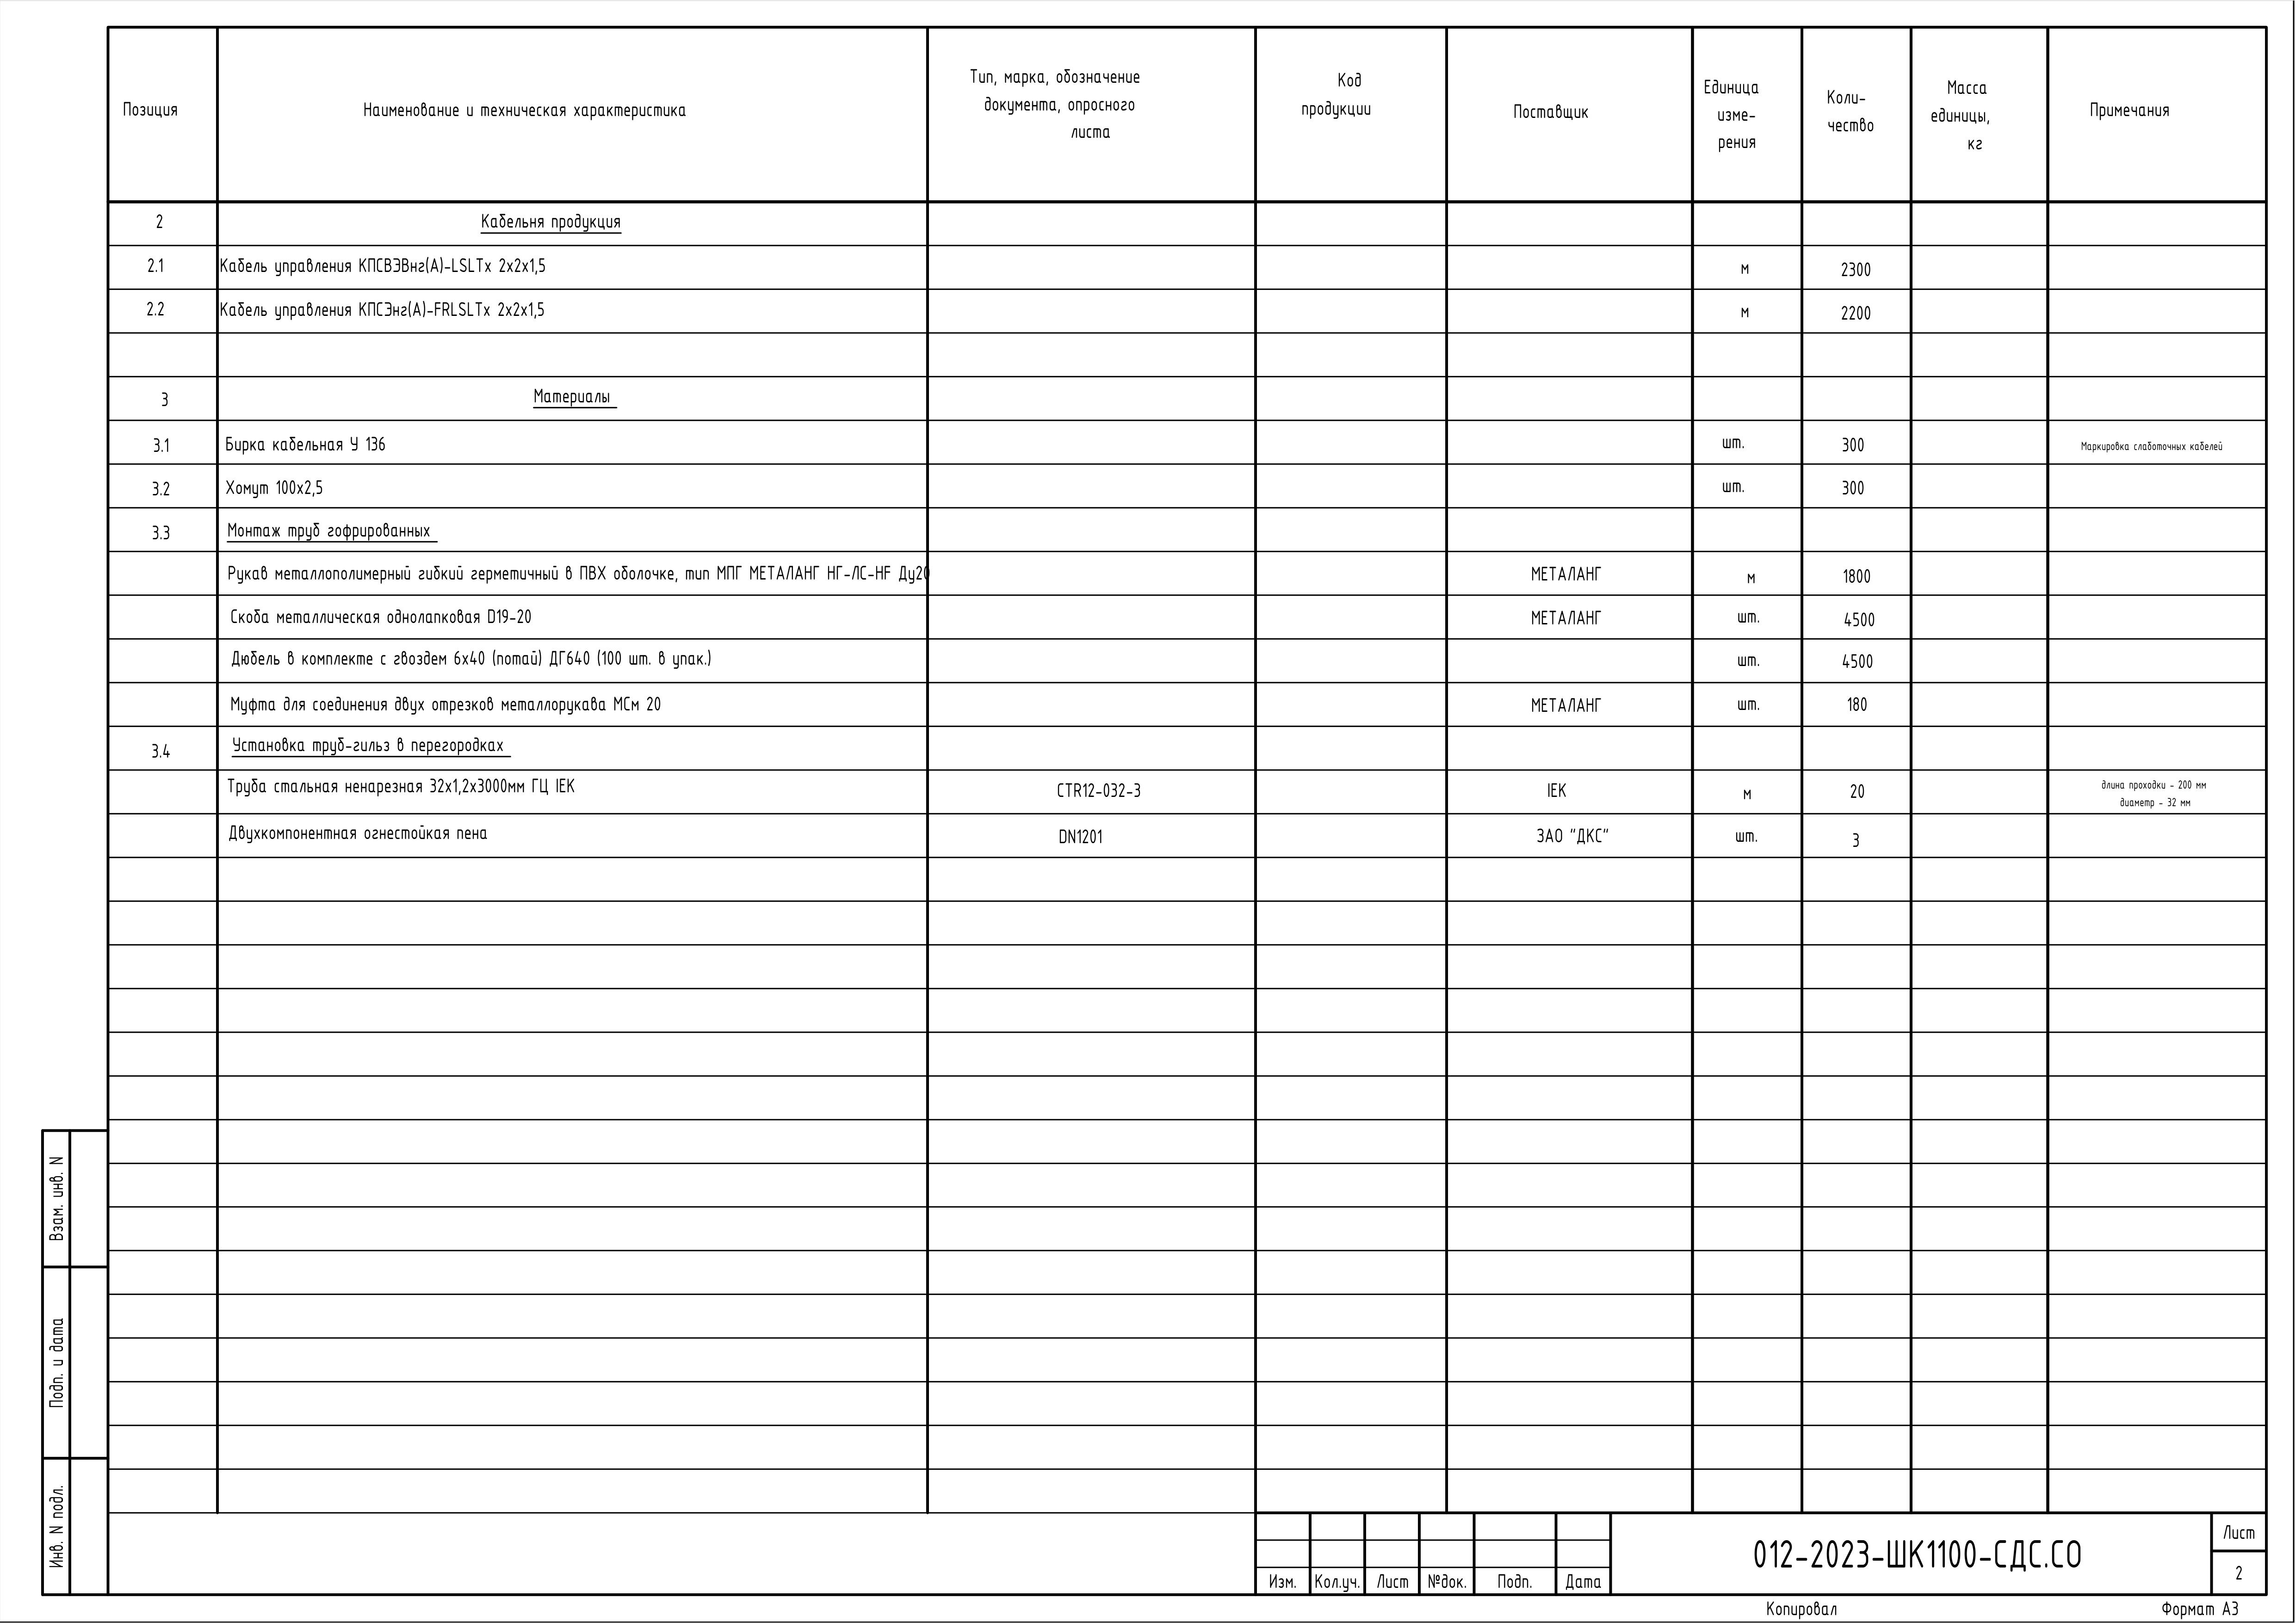Name of costs: (218, 202, 929, 1512)
Note: (928, 202, 1256, 1511)
Quantity: (1801, 202, 1911, 1511)
Unit of measurement: (1690, 200, 1801, 1511)
